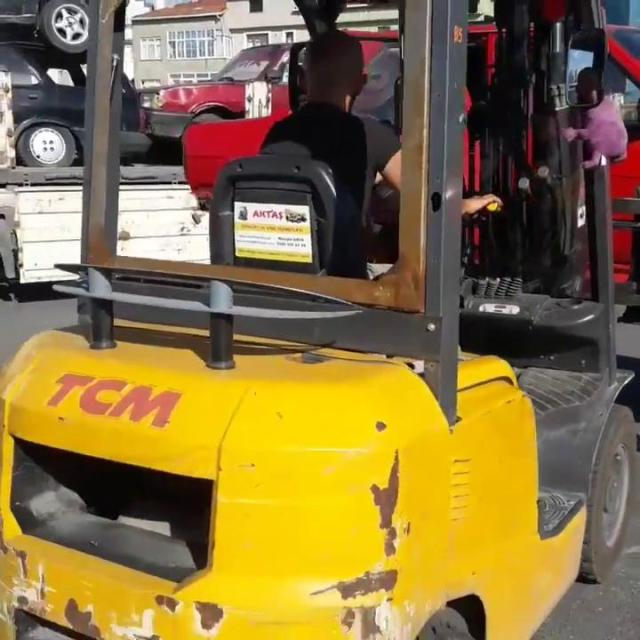forklift: (14, 127, 614, 640)
person: (221, 5, 423, 287)
